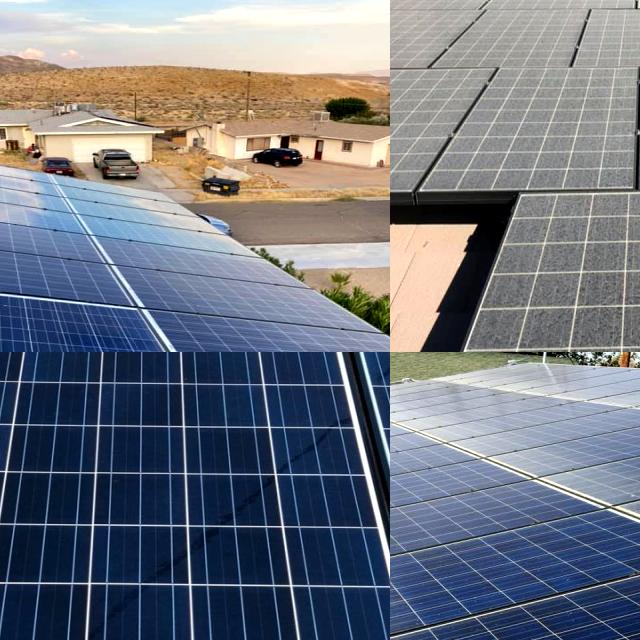crack: (0, 352, 390, 640), (13, 352, 390, 436), (0, 352, 126, 418)
dust: (190, 254, 356, 336), (500, 79, 623, 177), (518, 198, 621, 310), (482, 11, 567, 59), (390, 72, 426, 177), (590, 8, 640, 65), (390, 17, 424, 61)
